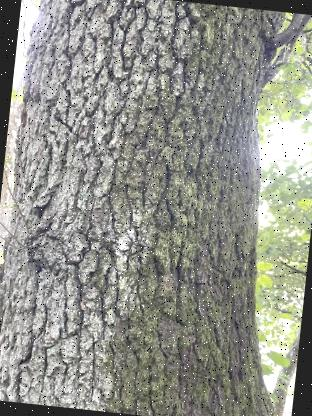tree: (0, 0, 308, 416)
